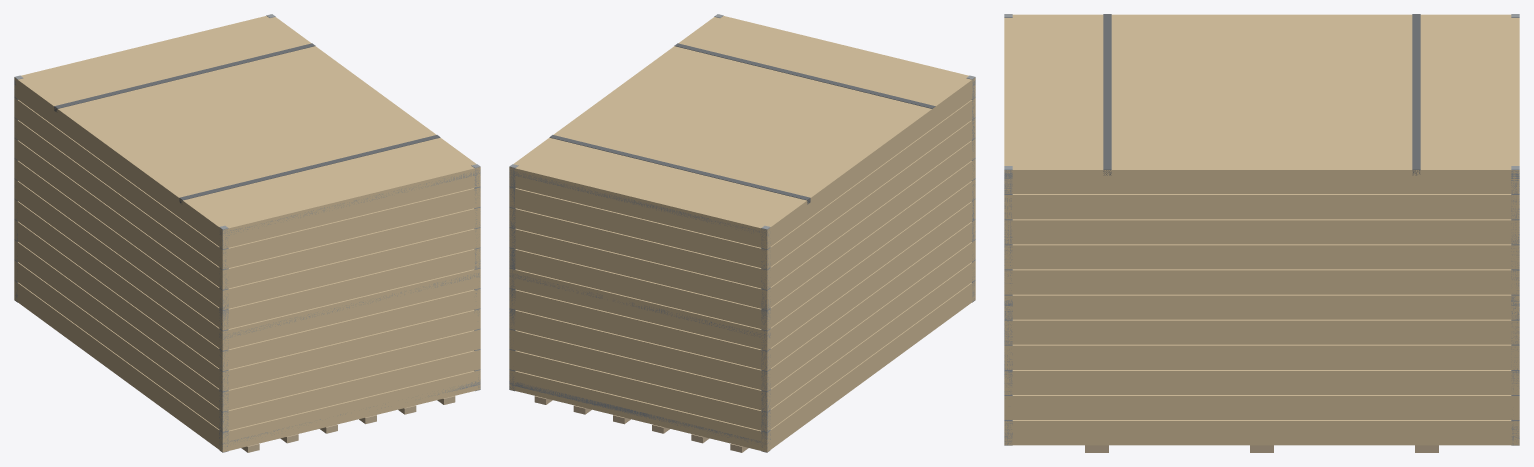
Rendered from unit_game_largecrate_2800x2000x1800_11500kg_v14.glb.
3 renders of one model, left to right at view 1: azimuth 30°, elevation 25°; view 2: azimuth 150°, elevation 25°; view 3: azimuth 270°, elevation 25°, orthographic. The views are drawn at different scales.
Visible parts, largest first — view 1: BIG11500_PLANK_10, BIG11500_PLANK_5, BIG11500_PLANK_2, BIG11500_PLANK_4, BIG11500_PLANK_8, BIG11500_PLANK_6, BIG11500_PLANK_3, BIG11500_PLANK_7, BIG11500_PLANK_9, BIG11500_PLANK_1, BIG11500_PLANK_0, BIG11500_BAND_2 (+2 smaller); view 2: BIG11500_PLANK_10, BIG11500_PLANK_2, BIG11500_PLANK_5, BIG11500_PLANK_8, BIG11500_PLANK_9, BIG11500_PLANK_1, BIG11500_PLANK_3, BIG11500_PLANK_4, BIG11500_PLANK_7, BIG11500_PLANK_6, BIG11500_PLANK_0, BIG11500_BAND_1 (+6 smaller); view 3: BIG11500_PLANK_10, BIG11500_PLANK_7, BIG11500_PLANK_6, BIG11500_PLANK_9, BIG11500_PLANK_3, BIG11500_PLANK_0, BIG11500_PLANK_8, BIG11500_PLANK_4, BIG11500_PLANK_5, BIG11500_PLANK_1, BIG11500_PLANK_2, BIG11500_BAND_2 (+3 smaller).
Part boxes in pixels (bbox=[...]): BIG11500_PLANK_10: bbox=[14, 16, 480, 249]; BIG11500_PLANK_5: bbox=[14, 179, 480, 350]; BIG11500_PLANK_2: bbox=[14, 240, 480, 411]; BIG11500_PLANK_4: bbox=[14, 199, 480, 370]; BIG11500_PLANK_8: bbox=[14, 118, 480, 289]; BIG11500_PLANK_6: bbox=[14, 159, 480, 330]; BIG11500_PLANK_3: bbox=[14, 219, 480, 391]; BIG11500_PLANK_7: bbox=[14, 138, 480, 309]; BIG11500_PLANK_9: bbox=[14, 98, 480, 269]; BIG11500_PLANK_1: bbox=[14, 260, 480, 431]; BIG11500_PLANK_0: bbox=[14, 280, 480, 452]; BIG11500_BAND_2: bbox=[179, 135, 440, 203]; BIG11500_PLANK_10: bbox=[509, 16, 975, 249]; BIG11500_PLANK_2: bbox=[509, 240, 975, 411]; BIG11500_PLANK_5: bbox=[509, 179, 975, 350]; BIG11500_PLANK_8: bbox=[509, 118, 975, 289]; BIG11500_PLANK_9: bbox=[509, 98, 975, 269]; BIG11500_PLANK_1: bbox=[509, 260, 975, 431]; BIG11500_PLANK_3: bbox=[509, 219, 975, 391]; BIG11500_PLANK_4: bbox=[509, 199, 975, 370]; BIG11500_PLANK_7: bbox=[509, 138, 975, 309]; BIG11500_PLANK_6: bbox=[509, 159, 975, 330]; BIG11500_PLANK_0: bbox=[509, 280, 975, 452]; BIG11500_BAND_1: bbox=[549, 135, 810, 204]; BIG11500_PLANK_10: bbox=[1004, 14, 1519, 193]; BIG11500_PLANK_7: bbox=[1004, 244, 1519, 269]; BIG11500_PLANK_6: bbox=[1004, 269, 1519, 294]; BIG11500_PLANK_9: bbox=[1004, 194, 1519, 219]; BIG11500_PLANK_3: bbox=[1004, 344, 1519, 369]; BIG11500_PLANK_0: bbox=[1004, 420, 1519, 445]; BIG11500_PLANK_8: bbox=[1004, 219, 1519, 244]; BIG11500_PLANK_4: bbox=[1004, 319, 1519, 344]; BIG11500_PLANK_5: bbox=[1004, 294, 1519, 319]; BIG11500_PLANK_1: bbox=[1004, 395, 1519, 419]; BIG11500_PLANK_2: bbox=[1004, 370, 1519, 394]; BIG11500_BAND_2: bbox=[1103, 14, 1111, 175].
Size of the model in its own units: 2 by 1.8 by 2.8.
